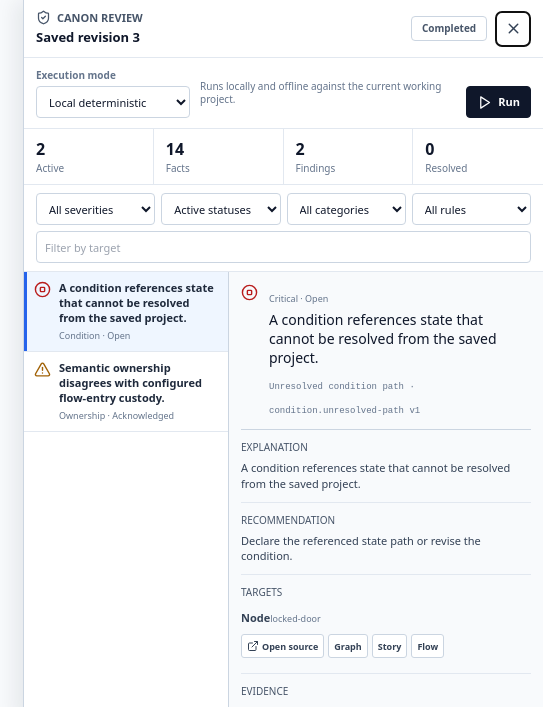
CanonWorkspace › filters issues and exposes non-color severity labels
Expected: the number of pictures named "Critical" is 2, [34, 281, 51, 298]; [241, 284, 258, 301]
Select "Warning" in the dropdown named "Severity" at (96, 209), box [36, 193, 155, 225]
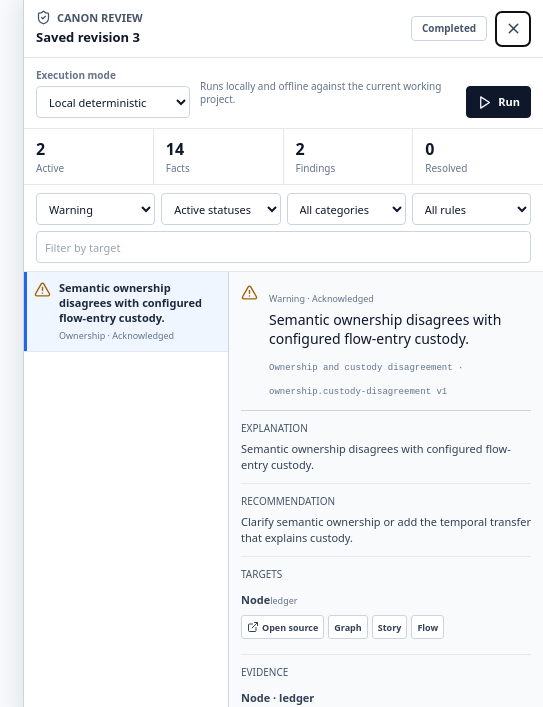
Expected: the option "condition references state" is gone
Expected: the text "Semantic ownership disagrees" is shown 3 times, [59, 281, 218, 326]; [269, 311, 531, 349]; [241, 441, 531, 473]
